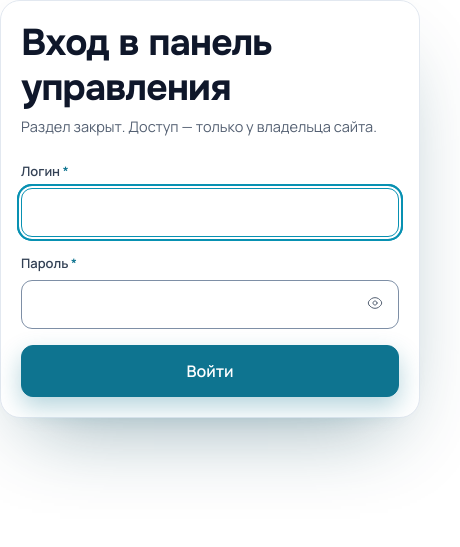
Test: Форма входа в панель › пустую форму не отправляет и показывает, чего не хватает
Click the button "Войти" at (210, 371), box x1=21 y1=345 x2=399 y2=397
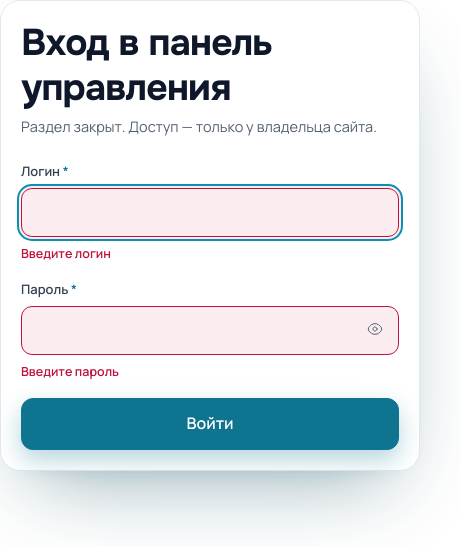
Now the text "Введите логин" is shown, box x1=21 y1=245 x2=111 y2=262
Now the text "Введите пароль" is shown, box x1=21 y1=364 x2=119 y2=380
